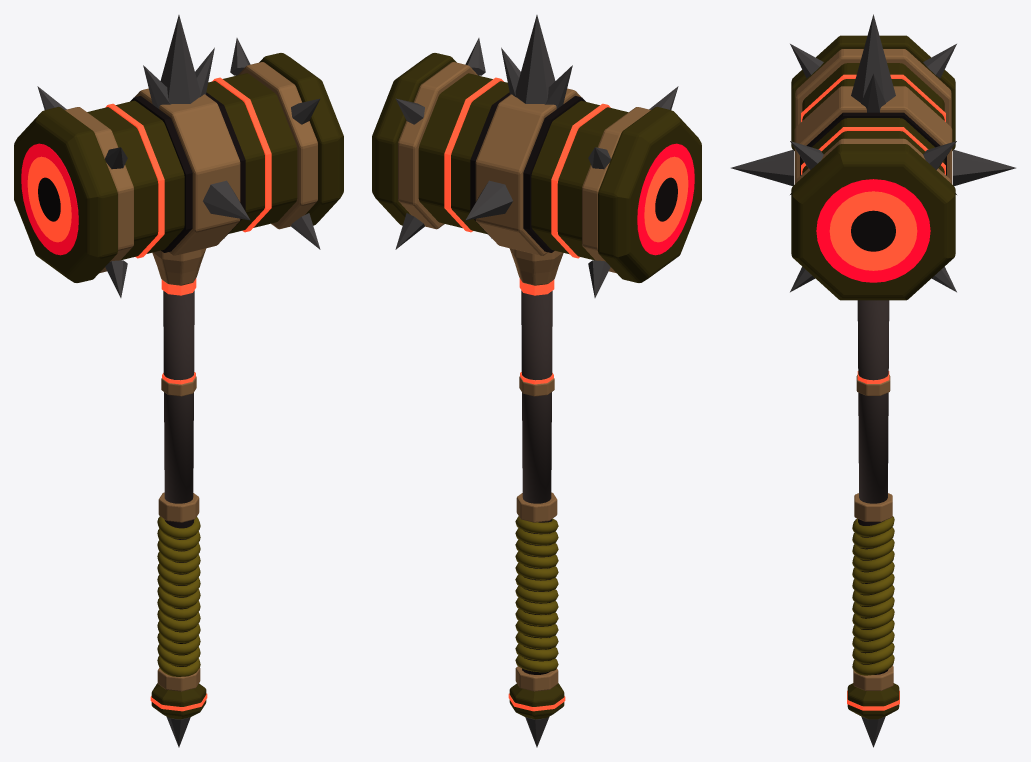
The model's file is hammer_darumaotoshi.fbx.
The picture shows the model from 3 angles, left to right: view 1: azimuth 30°, elevation 25°; view 2: azimuth 150°, elevation 25°; view 3: azimuth 270°, elevation 25°; orthographic projection.
Visible parts, largest first — view 1: darumaotoshi_hammer; view 2: darumaotoshi_hammer; view 3: darumaotoshi_hammer.
Boxes of the visible parts, x1,y1,x2,y2 form: darumaotoshi_hammer: (14, 15, 343, 747); darumaotoshi_hammer: (372, 15, 701, 747); darumaotoshi_hammer: (731, 14, 1015, 747).
Size of the model in its own units: 1.13 by 3.05 by 1.08.
